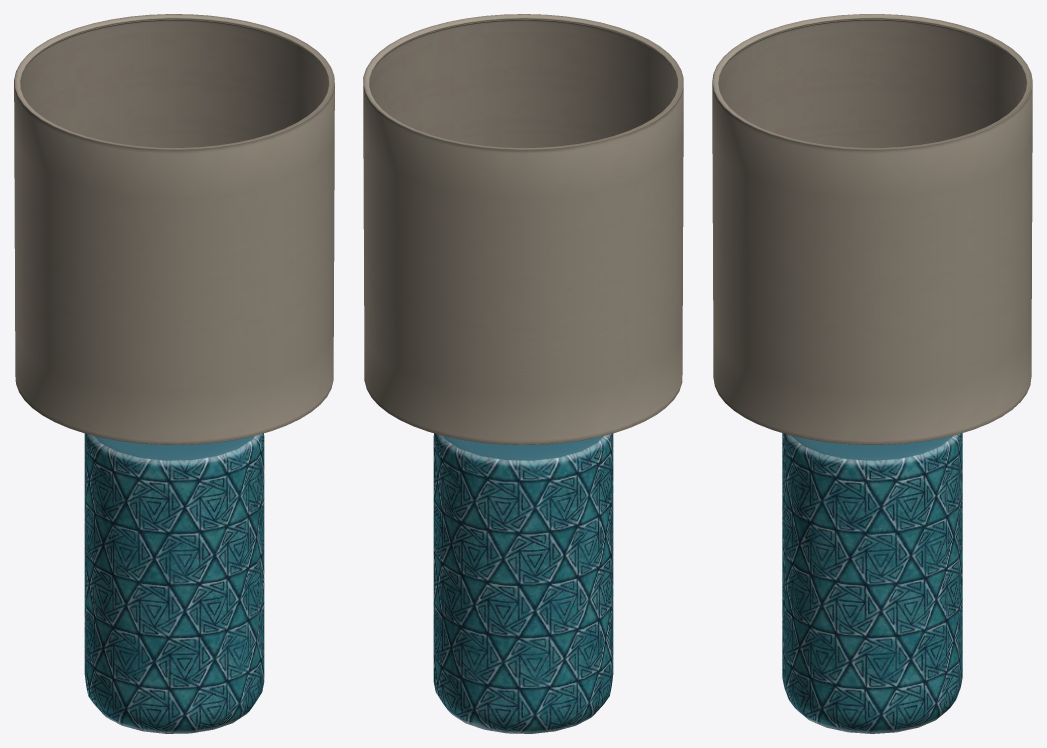
Rendered from abo-B075X2Y3VK.glb.
3 views of the same model, side by side, from view 1: azimuth 30°, elevation 25°; view 2: azimuth 150°, elevation 25°; view 3: azimuth 270°, elevation 25° (orthographic).
Size of the model in its own units: 0.278 by 0.597 by 0.278.
Materials: 1 (1 with a texture image).
